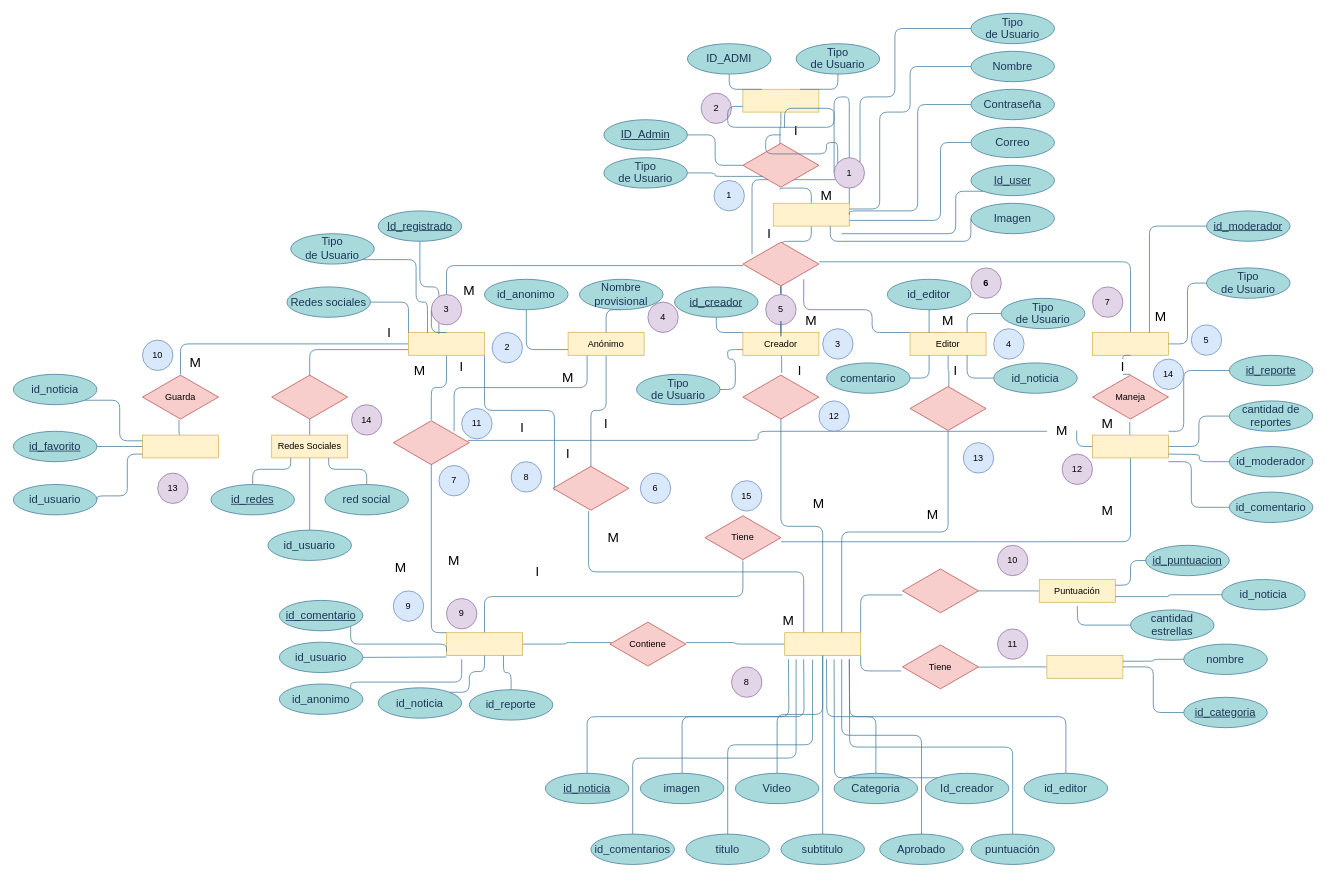
The diagram is 1326 pixels wide and 878 high, and some of its shapes have lost their labels. The shapes that lost their labels are listed below. From the top down, each one's centre as x and y in pixels, then its label:
the point at 780,100: Administrador
the point at 780,165: Administra
the point at 811,214: Usuarios
the point at 780,264: Es
the point at 446,343: Registrado
the point at 1130,343: Moderador
the point at 309,397: Agrega
the point at 780,397: Crea
the point at 947,408: Edita
the point at 180,446: Favoritos
the point at 431,442: Hace
the point at 1130,446: Reportes
the point at 590,488: Lee
the point at 940,590: Recibe
the point at 484,644: Comentarios
the point at 822,644: Noticia
the point at 1084,666: Categoría
